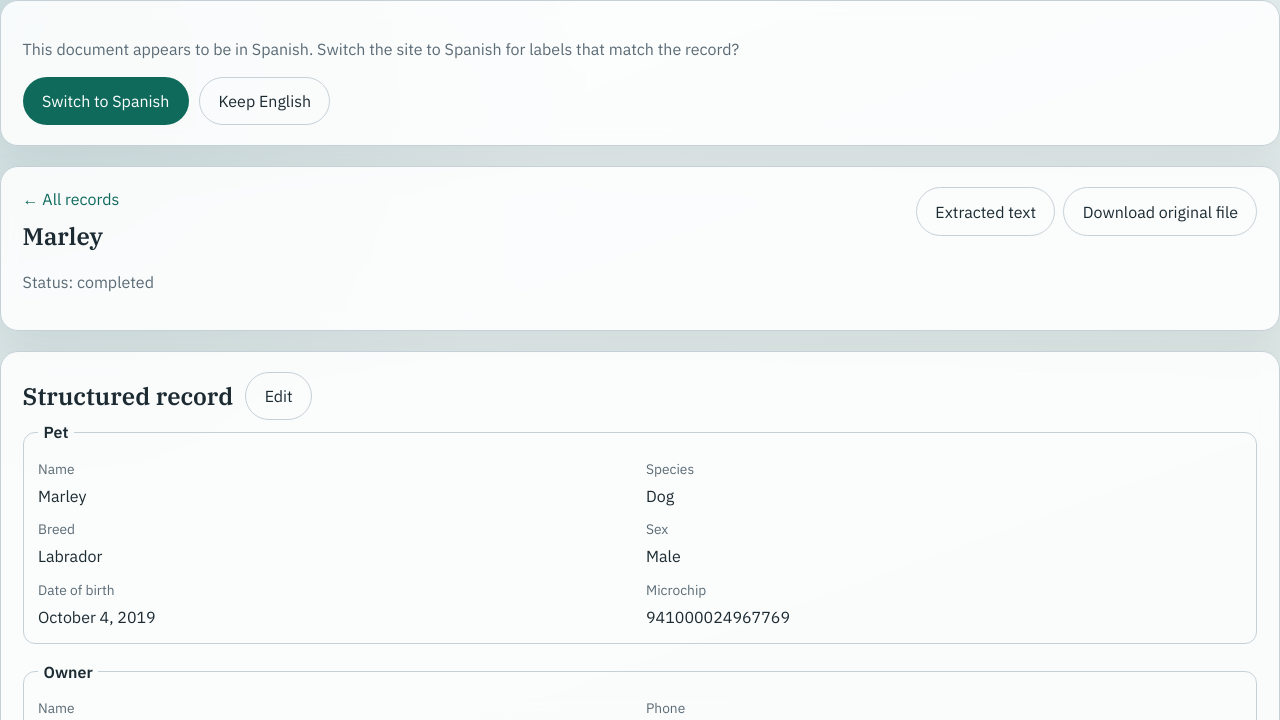
Test: RecordPage › warns before discarding unsaved edits
Click the button "Edit" at (279, 396), box x1=245 y1=372 x2=312 y2=420
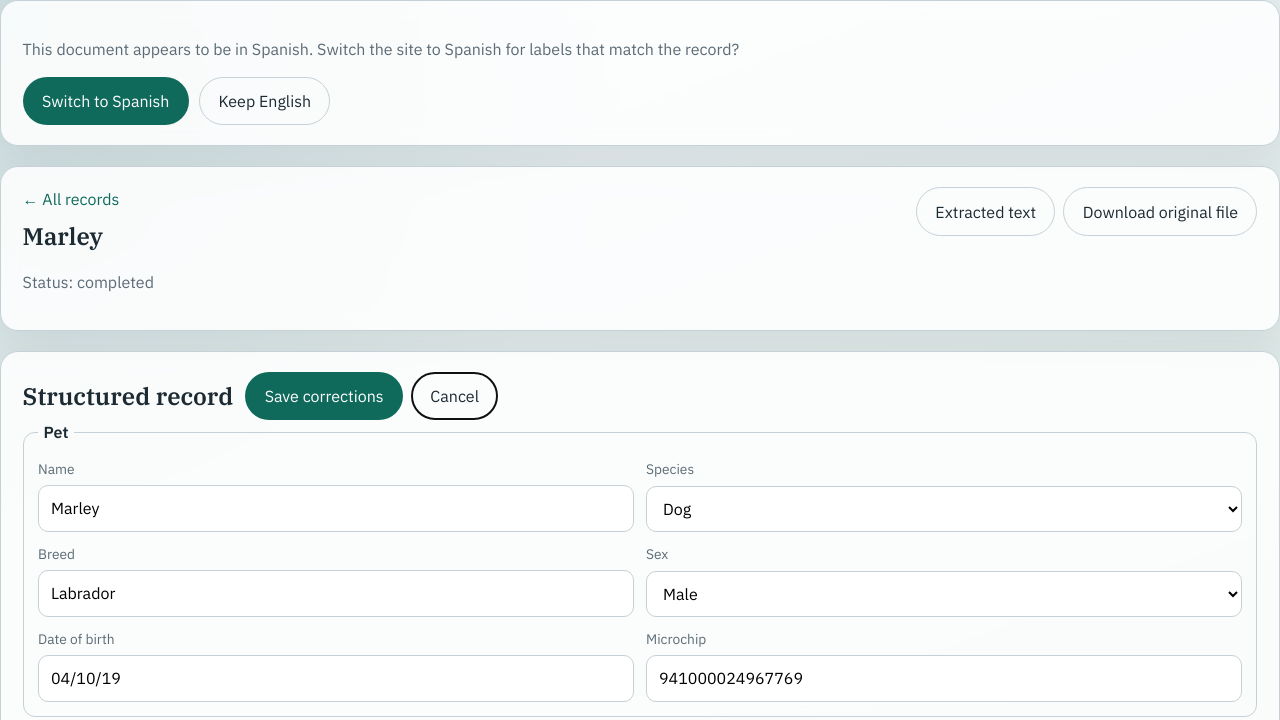
Replace the text in the field labelled "Name" with "Buddy" at (336, 508), box x1=38 y1=485 x2=634 y2=532
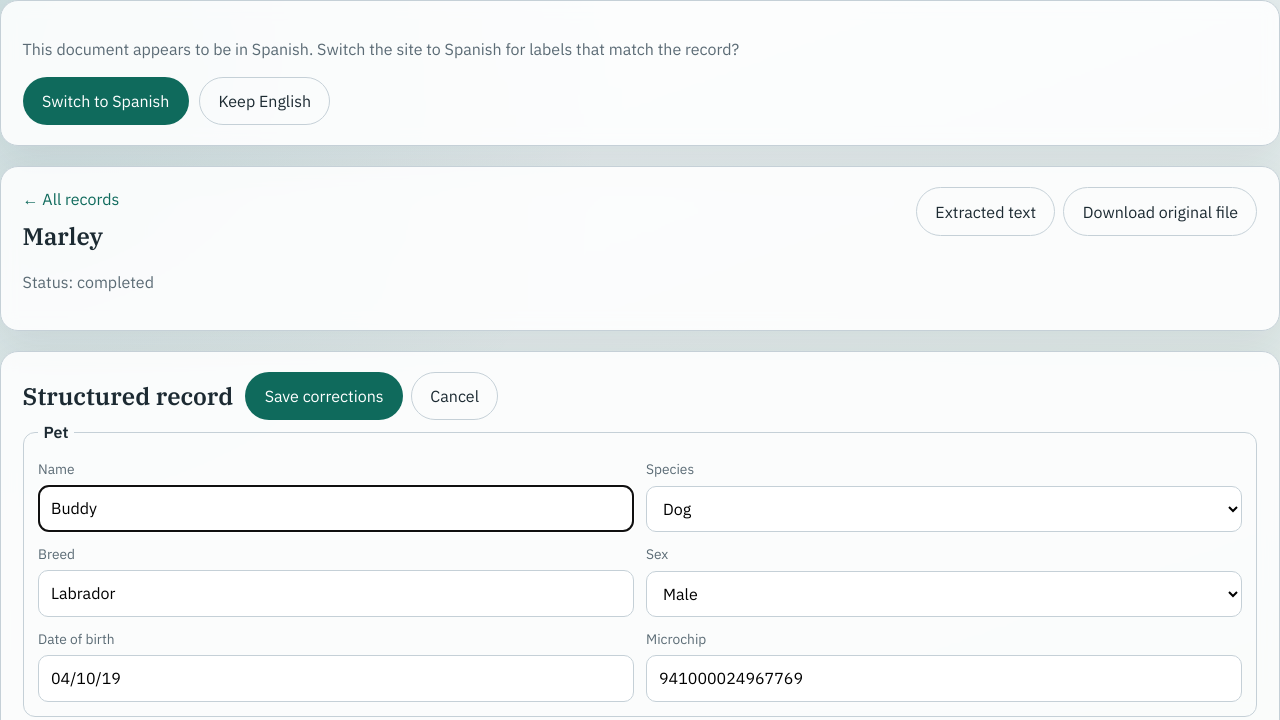
Click the button "Cancel" at (455, 396), box x1=411 y1=372 x2=498 y2=420
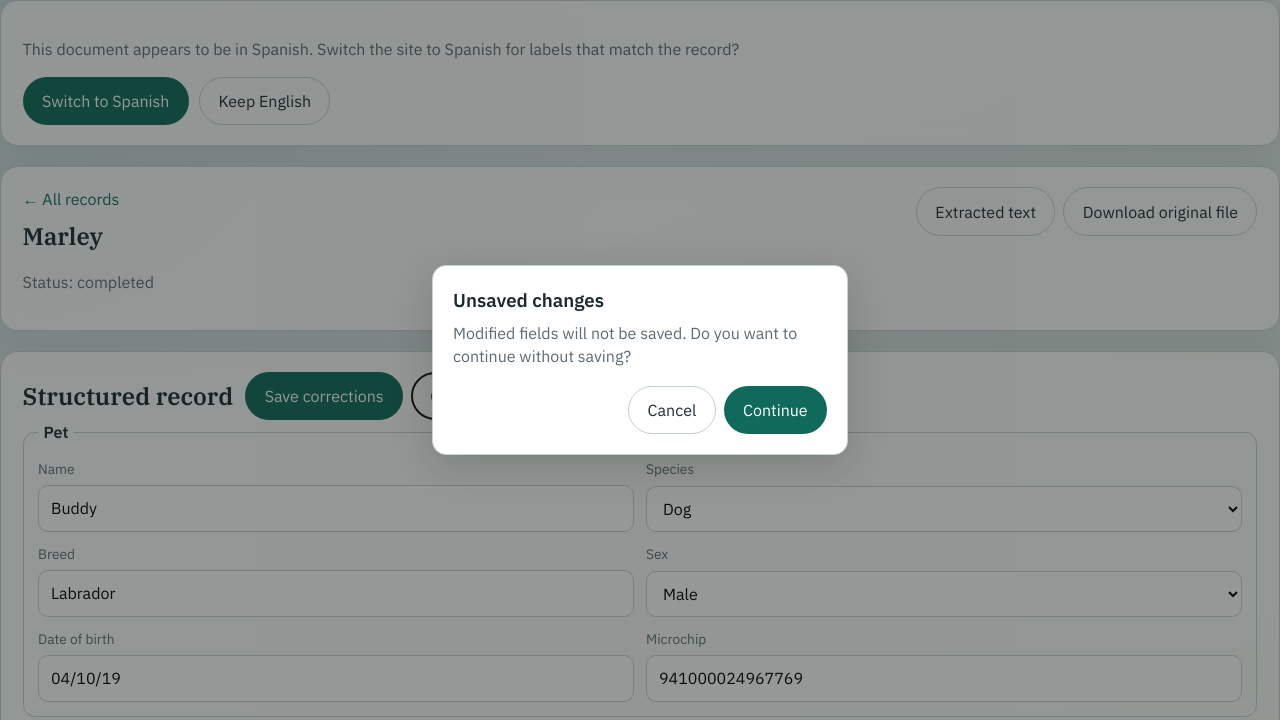
Result: the dialog is shown at x1=432 y1=265 x2=848 y2=455
Result: the text "Modified fields will not be saved" is shown at x1=453 y1=323 x2=797 y2=366
Click the button "Continue" at (775, 410), box x1=724 y1=386 x2=827 y2=434
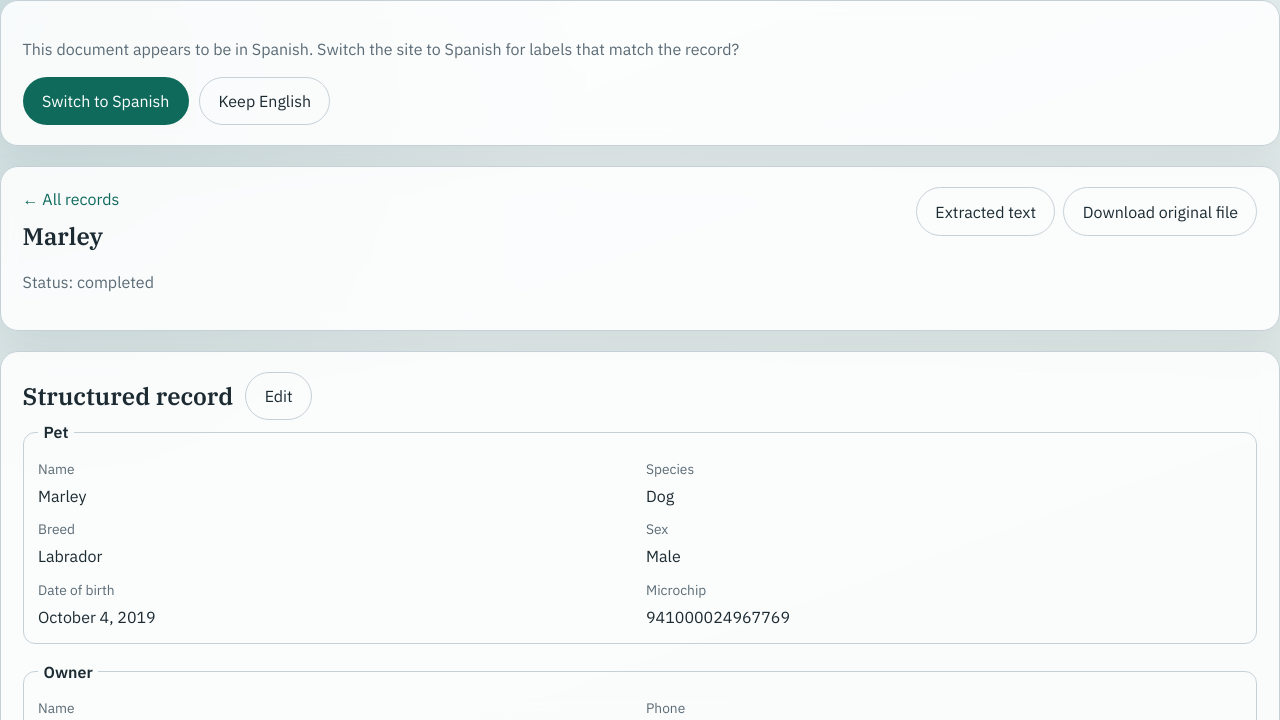
Result: the dialog is gone
Result: the button "Edit" is shown at x1=245 y1=372 x2=312 y2=420
Result: the text "Marley" is shown at x1=38 y1=486 x2=86 y2=506
